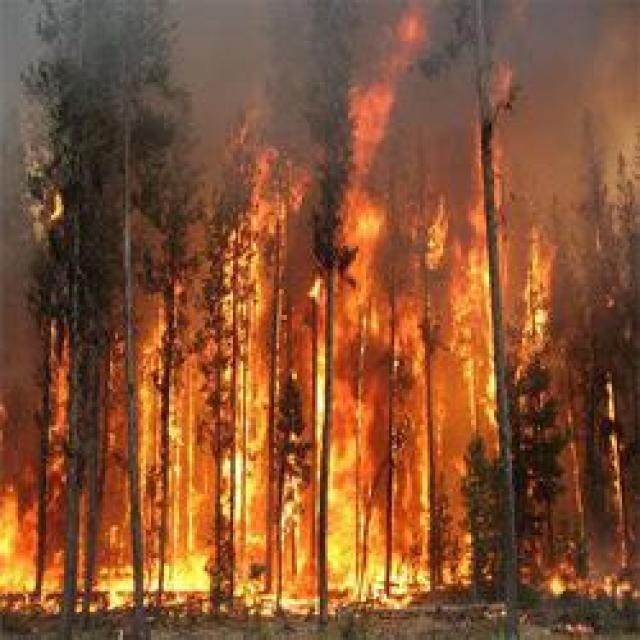fire: (448, 203, 495, 442), (328, 444, 358, 592), (0, 479, 38, 592), (227, 445, 267, 522), (149, 554, 211, 596)
smoke: (501, 0, 637, 198)
